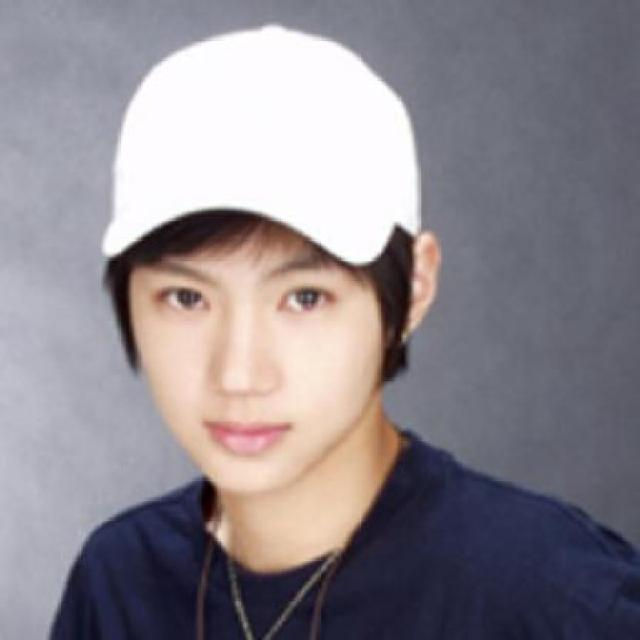hat: (100, 21, 423, 264)
